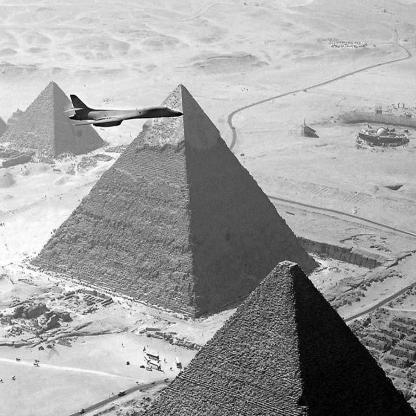B1: (63, 96, 185, 129)
